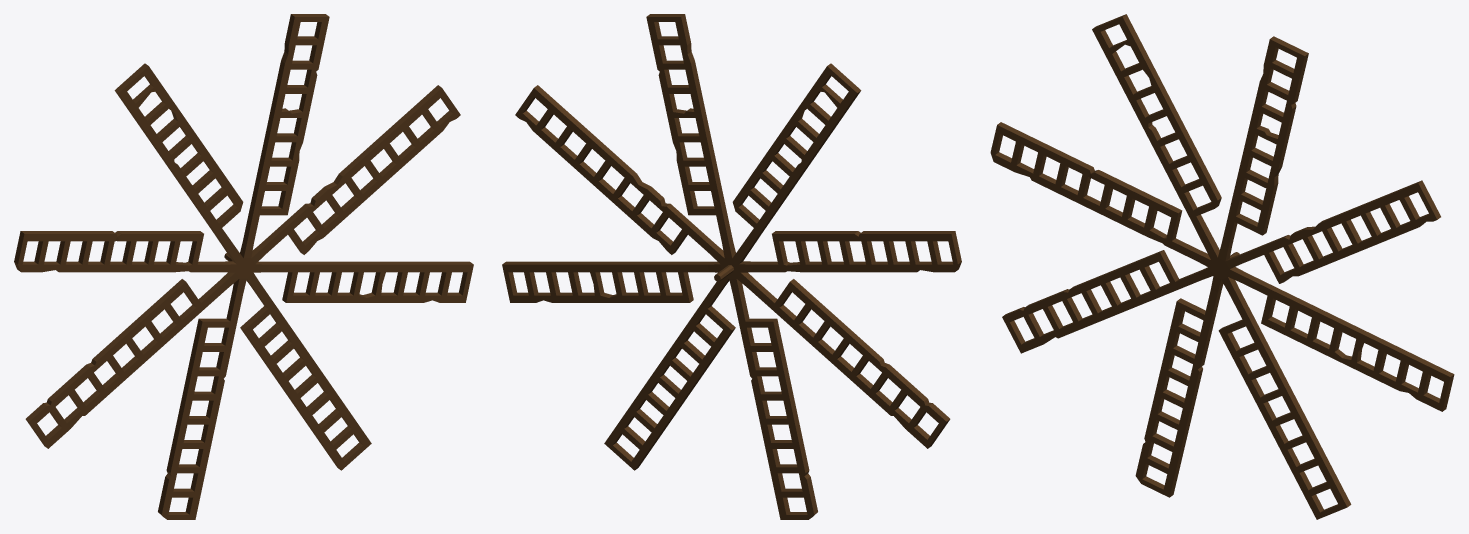
The model's file is TowerWindmill_Blades_Cylinder.obj.
The picture shows the model from 3 angles, left to right: view 1: azimuth 30°, elevation 25°; view 2: azimuth 150°, elevation 25°; view 3: azimuth 330°, elevation 25°; orthographic projection.
Parts seen in each view (by area): view 1: TowerWindmill_Blades_Cylinder.006; view 2: TowerWindmill_Blades_Cylinder.006; view 3: TowerWindmill_Blades_Cylinder.006.
Part boxes in pixels (x1,y1,x2,y2): TowerWindmill_Blades_Cylinder.006: (14,14,473,519); TowerWindmill_Blades_Cylinder.006: (502,14,961,519); TowerWindmill_Blades_Cylinder.006: (990,14,1454,519).
Bounding box in the file's own units: 7.92 × 7.95 × 0.5283.
